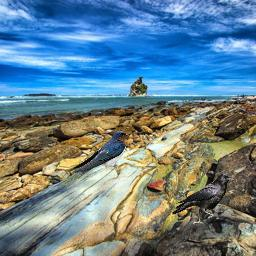Crow: (172, 173, 235, 225)
Swallow: (61, 131, 130, 189)
